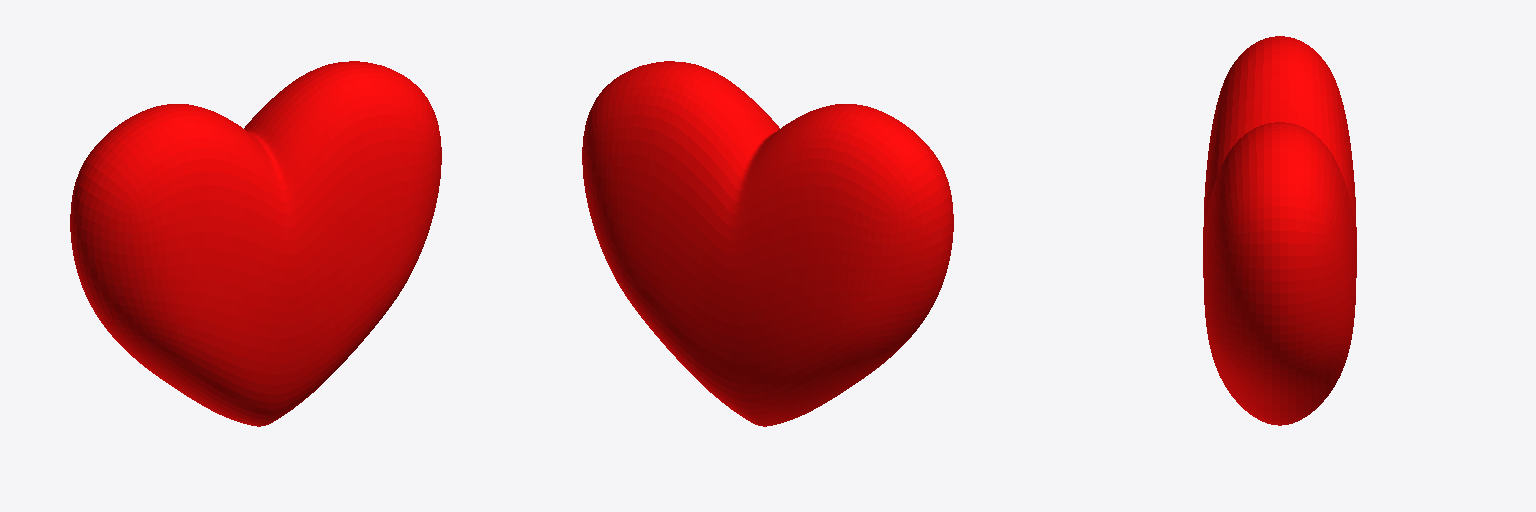
File: heart.obj
3 views of the same model, side by side, from view 1: azimuth 30°, elevation 25°; view 2: azimuth 150°, elevation 25°; view 3: azimuth 270°, elevation 25° (orthographic).
Visible parts, largest first — view 1: Heart; view 2: Heart; view 3: Heart.
Part boxes in pixels (bbox=[...]): Heart: bbox=[70, 61, 441, 426]; Heart: bbox=[582, 61, 953, 426]; Heart: bbox=[1203, 36, 1356, 425].
Bounding box in the file's own units: 2 × 1.79 × 0.7427.